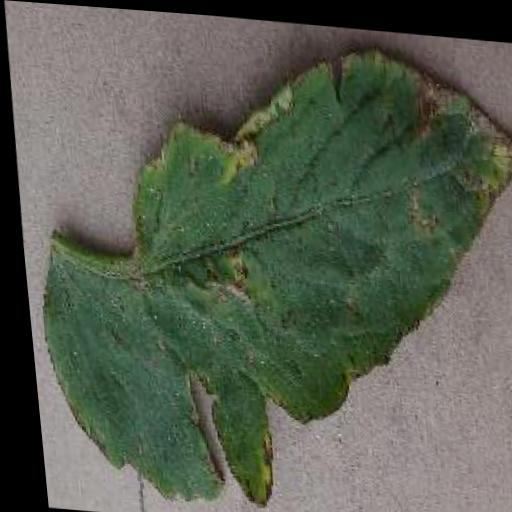Bacterial Spot: (1, 8, 512, 512)
